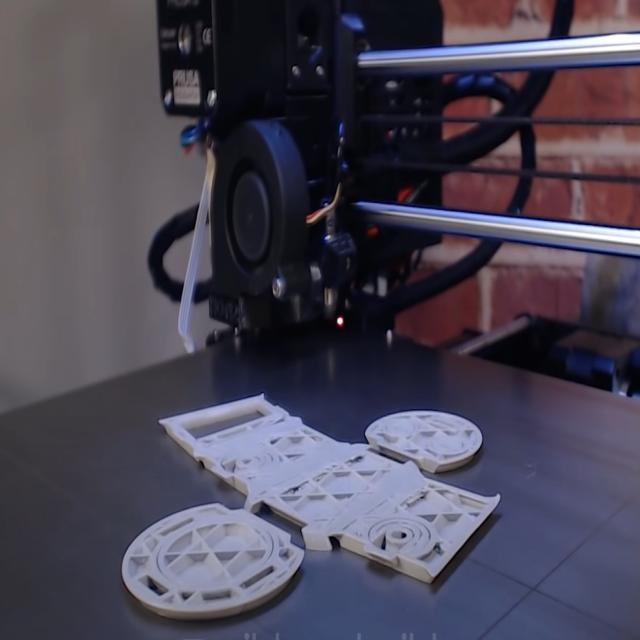Without deffect: (116, 362, 506, 630)
